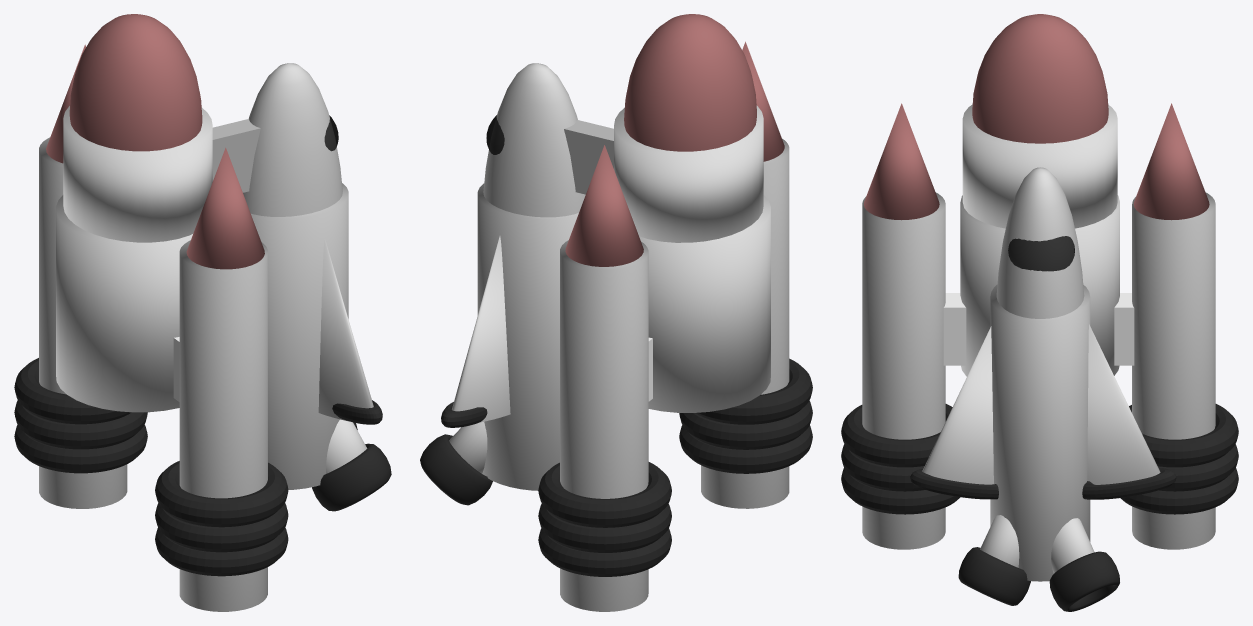
The model's file is nave_espacial..glb.
3 views of the same model, side by side, from view 1: azimuth 30°, elevation 25°; view 2: azimuth 150°, elevation 25°; view 3: azimuth 270°, elevation 25° (orthographic). The views are drawn at different scales.
Visible parts, largest first — view 1: Cylinder.003, Cylinder.002, Cylinder.004, Sphere, Cylinder.001, Sphere.001, Cylinder, Cone.001, Cone.003, Torus.003, Torus.004, Torus.001 (+8 smaller); view 2: Cylinder, Cylinder.002, Cylinder.004, Sphere, Cylinder.001, Sphere.001, Cylinder.003, Cone.002, Cone, Torus.002, Torus.001, Torus.004 (+8 smaller); view 3: Cylinder.004, Cylinder.003, Cylinder, Sphere, Cylinder.001, Sphere.001, Cylinder.002, Cone.002, Cone.003, Cone.001, Cone, Torus.009 (+14 smaller).
Part boxes in pixels (bbox=[...]): Cylinder.003: bbox=[179, 240, 267, 611]; Cylinder.002: bbox=[56, 195, 192, 412]; Cylinder.004: bbox=[251, 183, 348, 489]; Sphere: bbox=[69, 14, 202, 151]; Cylinder.001: bbox=[63, 106, 212, 242]; Sphere.001: bbox=[243, 63, 342, 216]; Cylinder: bbox=[39, 137, 127, 508]; Cone.001: bbox=[186, 147, 264, 269]; Cone.003: bbox=[318, 239, 373, 421]; Torus.003: bbox=[155, 461, 288, 527]; Torus.004: bbox=[155, 503, 288, 552]; Torus.001: bbox=[14, 400, 147, 449]; Cylinder: bbox=[560, 240, 648, 611]; Cylinder.002: bbox=[639, 195, 770, 412]; Cylinder.004: bbox=[477, 183, 578, 490]; Sphere: bbox=[624, 14, 756, 151]; Cylinder.001: bbox=[614, 105, 763, 242]; Sphere.001: bbox=[483, 63, 585, 217]; Cylinder.003: bbox=[701, 138, 789, 508]; Cone.002: bbox=[452, 236, 510, 422]; Cone: bbox=[565, 145, 643, 266]; Torus.002: bbox=[538, 462, 671, 527]; Torus.001: bbox=[538, 504, 671, 552]; Torus.004: bbox=[679, 400, 812, 449]; Cylinder.004: bbox=[990, 284, 1090, 581]; Cylinder.003: bbox=[862, 192, 945, 549]; Cylinder: bbox=[1132, 192, 1215, 549]; Sphere: bbox=[972, 14, 1108, 143]; Cylinder.001: bbox=[962, 104, 1117, 228]; Sphere.001: bbox=[996, 167, 1084, 318]; Cylinder.002: bbox=[960, 195, 1119, 376]; Cone.002: bbox=[1087, 324, 1160, 484]; Cone.003: bbox=[922, 326, 993, 484]; Cone.001: bbox=[863, 103, 939, 220]; Cone: bbox=[1133, 103, 1209, 220]; Torus.009: bbox=[1049, 551, 1119, 611].
Size of the model in its own units: 10.79 by 17.52 by 12.47.
